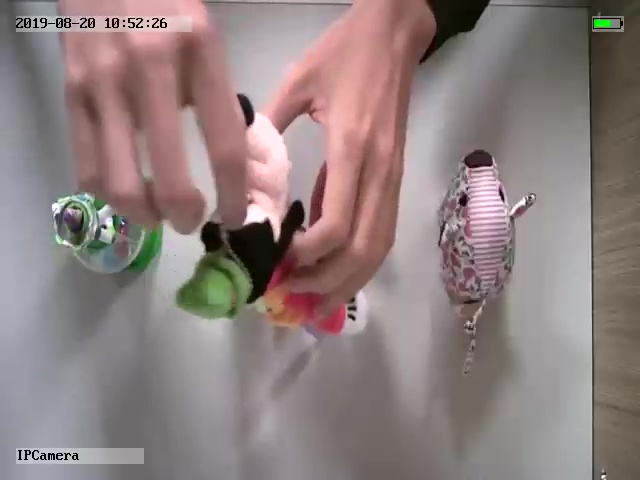buzz: (48, 173, 166, 277)
pig: (437, 150, 536, 371)
